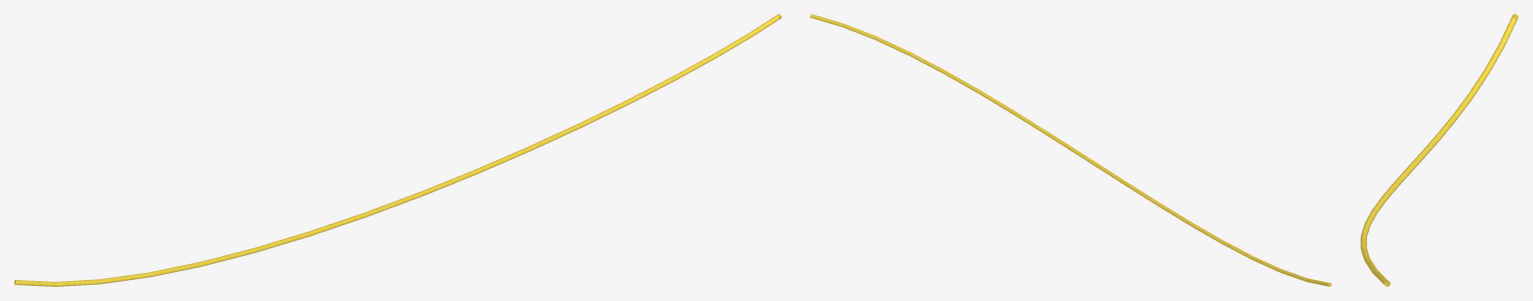
Rendered from Event_75125125_track_73.fbx.
3 renders of one model, left to right at view 1: azimuth 30°, elevation 25°; view 2: azimuth 150°, elevation 25°; view 3: azimuth 270°, elevation 25°, orthographic. The views are drawn at different scales.
Parts seen in each view (by area): view 1: Model; view 2: Model; view 3: Model.
Boxes of the visible parts, box(x1,y1,x2,y2) form: Model: box(14, 14, 781, 286); Model: box(810, 14, 1331, 286); Model: box(1360, 14, 1518, 286).
Bounding box in the file's own units: 6.43 × 1.24 × 1.
